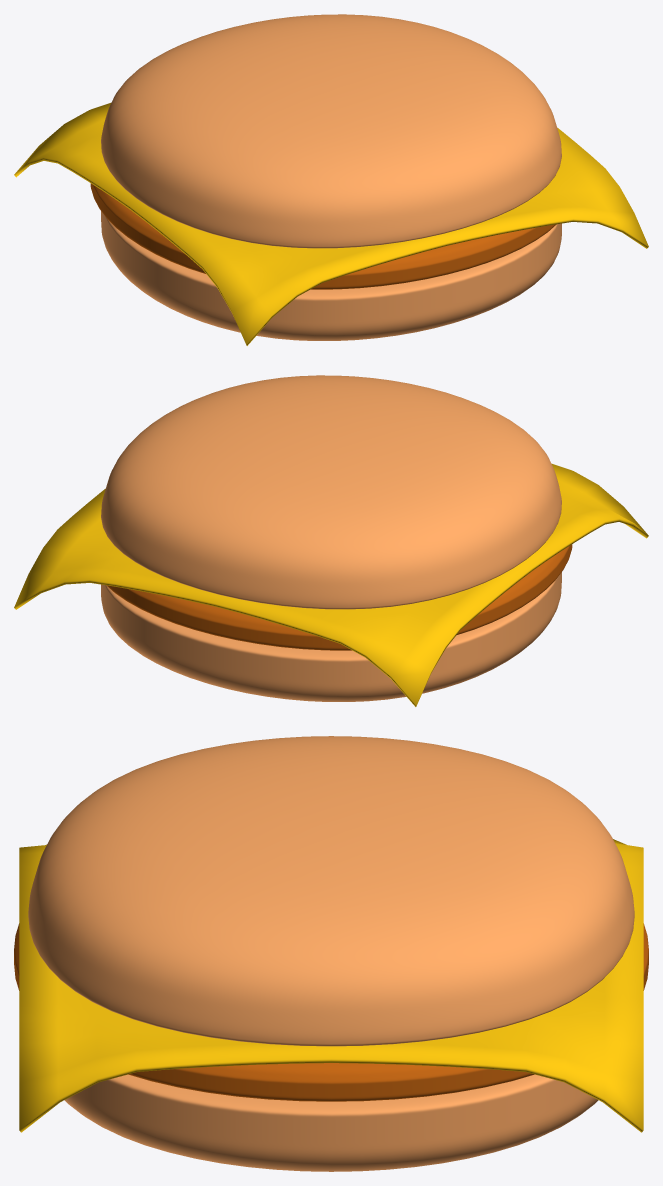
The model's file is burger.glb.
3 views of the same model, one above another, from view 1: azimuth 30°, elevation 25°; view 2: azimuth 150°, elevation 25°; view 3: azimuth 270°, elevation 25° (orthographic). The views are drawn at different scales.
Visible parts, largest first — view 1: TopBun, Cheese, BottomBun, Patty; view 2: TopBun, Cheese, BottomBun, Patty; view 3: TopBun, Cheese, BottomBun, Patty.
Boxes of the visible parts, bbox=[...] form: TopBun: bbox=[101, 14, 561, 248]; Cheese: bbox=[14, 103, 648, 345]; BottomBun: bbox=[101, 211, 561, 340]; Patty: bbox=[90, 183, 556, 289]; TopBun: bbox=[101, 375, 561, 609]; Cheese: bbox=[14, 464, 648, 706]; BottomBun: bbox=[101, 572, 561, 701]; Patty: bbox=[106, 544, 572, 650]; TopBun: bbox=[28, 736, 634, 1046]; Cheese: bbox=[19, 839, 643, 1132]; BottomBun: bbox=[64, 1074, 598, 1171]; Patty: bbox=[14, 923, 648, 1101].
Size of the model in its own units: 9.6 by 4.44 by 9.6.
